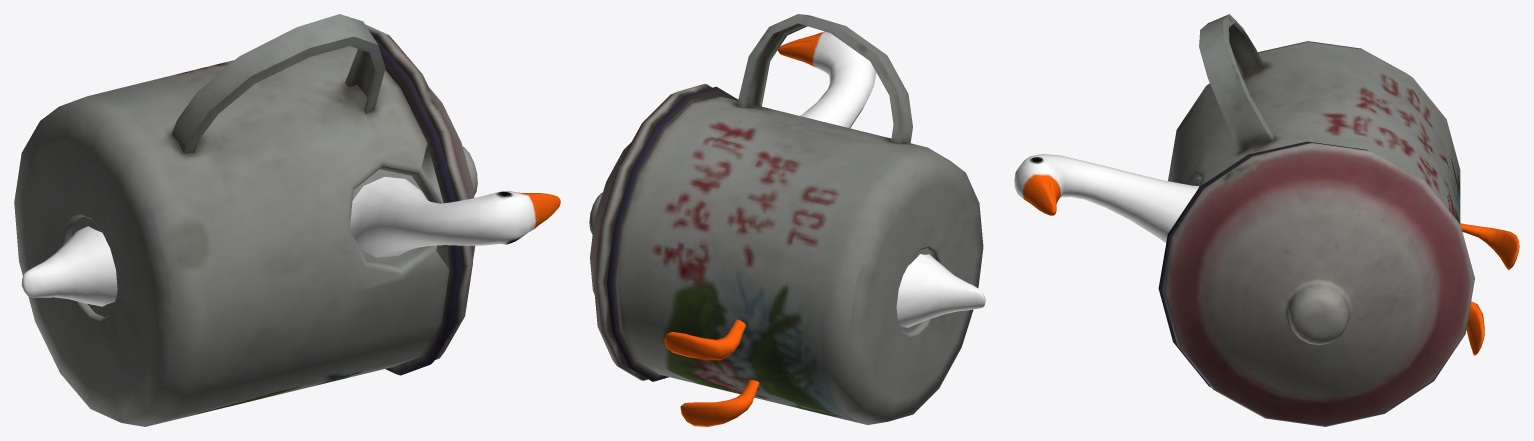
File: ref_goose_steelcup.glb
The picture shows the model from 3 angles, left to right: view 1: azimuth 30°, elevation 25°; view 2: azimuth 150°, elevation 25°; view 3: azimuth 270°, elevation 25°; orthographic projection. The views are drawn at different scales.
Parts seen in each view (by area): view 1: ref_goose_steelcup_part1, ref_goose_steelcup_part0; view 2: ref_goose_steelcup_part1, ref_goose_steelcup_part0; view 3: ref_goose_steelcup_part1, ref_goose_steelcup_part0.
Part boxes in pixels (x1=…): ref_goose_steelcup_part1: x1=14, y1=14, x2=477, y2=426; ref_goose_steelcup_part0: x1=21, y1=176, x2=560, y2=306; ref_goose_steelcup_part1: x1=589, y1=14, x2=983, y2=424; ref_goose_steelcup_part0: x1=664, y1=31, x2=985, y2=426; ref_goose_steelcup_part1: x1=1158, y1=14, x2=1474, y2=426; ref_goose_steelcup_part0: x1=1014, y1=154, x2=1519, y2=355.
Bounding box in the file's own units: 0.8965 × 0.7687 × 1.
Materials: 2 (2 with a texture image).
